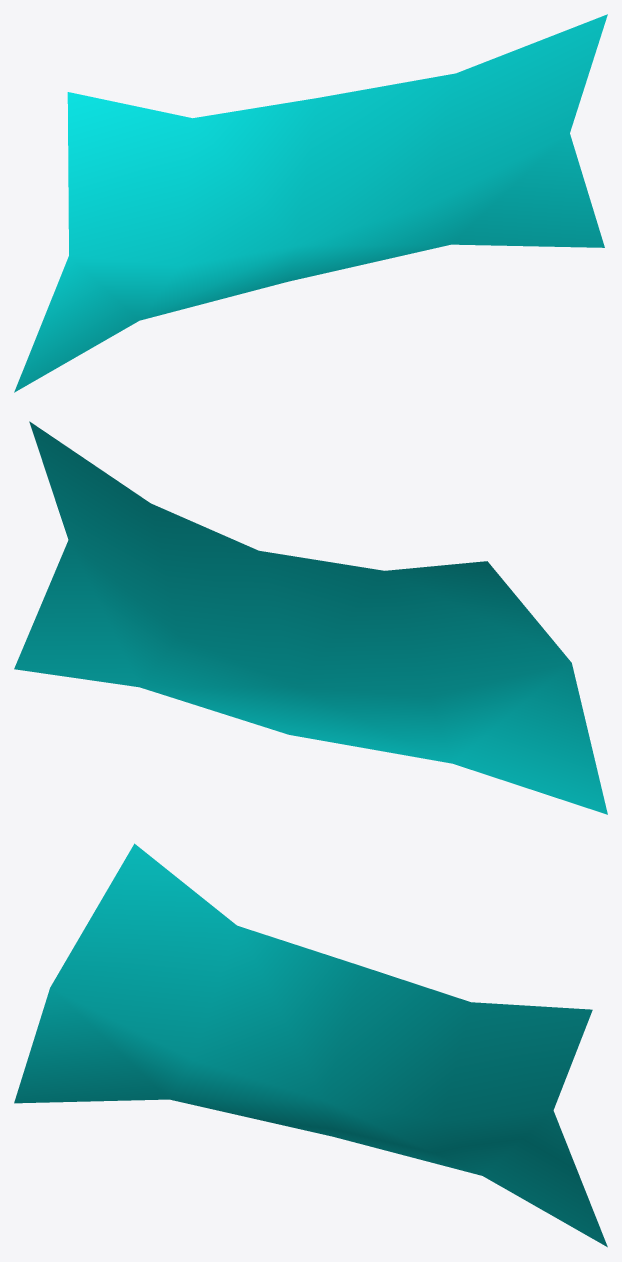
Rendered from playerTrail.fbx.
The picture shows the model from 3 angles, top to bottom: view 1: azimuth 30°, elevation 25°; view 2: azimuth 150°, elevation 25°; view 3: azimuth 330°, elevation 25°; orthographic projection.
Visible parts, largest first — view 1: playerTrail; view 2: playerTrail; view 3: playerTrail.
Part boxes in pixels (left/top/right/bottom): playerTrail: left=14, top=14, right=607, bottom=392; playerTrail: left=14, top=421, right=607, bottom=814; playerTrail: left=14, top=843, right=607, bottom=1247.
Size of the model in its own units: 2.03 by 0.8406 by 0.2541.
